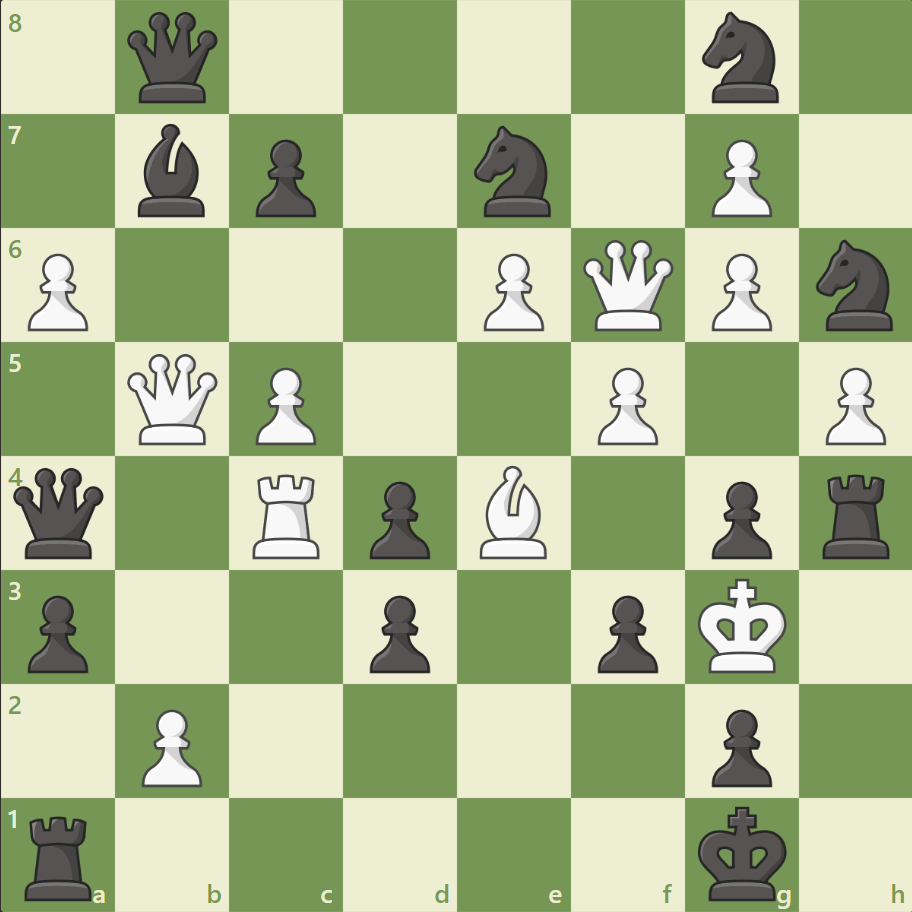B: (471, 460, 555, 563)
K: (692, 571, 792, 679)
P: (701, 132, 776, 223), (20, 246, 95, 337), (474, 246, 549, 337), (701, 246, 776, 337), (247, 359, 322, 450), (133, 700, 208, 791), (588, 359, 662, 450), (815, 359, 889, 450)
Q: (124, 349, 223, 449), (578, 236, 677, 335)
R: (246, 466, 329, 563)
b: (131, 120, 215, 222)
k: (692, 798, 792, 906)
n: (692, 7, 789, 110), (806, 234, 903, 337), (465, 121, 562, 223)
p: (247, 132, 322, 223), (701, 473, 776, 564), (20, 586, 95, 677), (701, 700, 776, 791), (361, 473, 435, 564), (361, 586, 435, 677), (588, 586, 662, 677)
q: (124, 9, 223, 108), (10, 463, 109, 562)
r: (19, 806, 102, 904), (814, 466, 897, 563)
